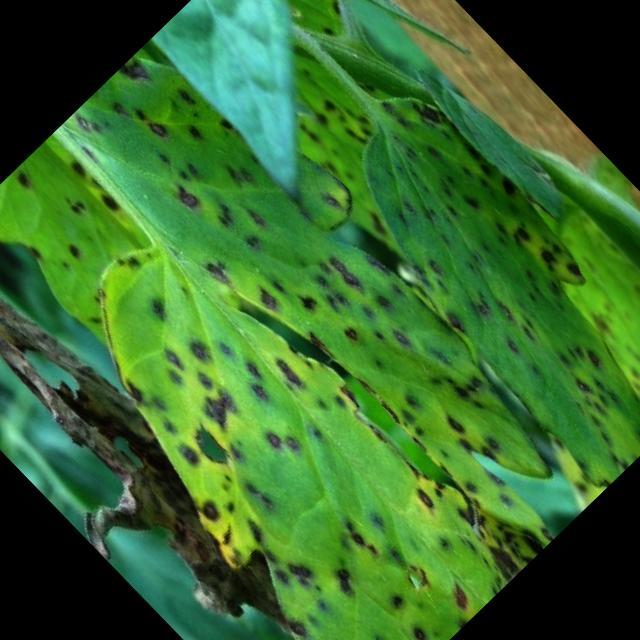Tomato Septoria spot leaf: (0, 24, 610, 640), (287, 61, 640, 492)
